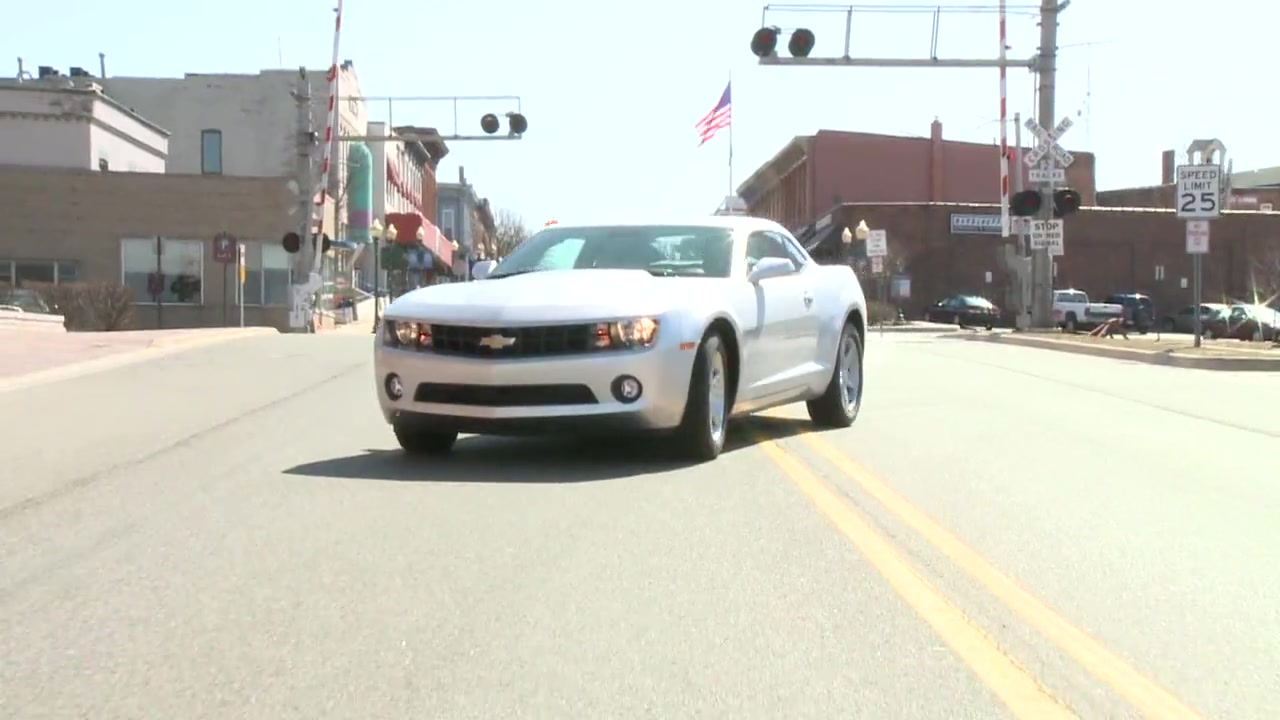car: (374, 209, 869, 461)
